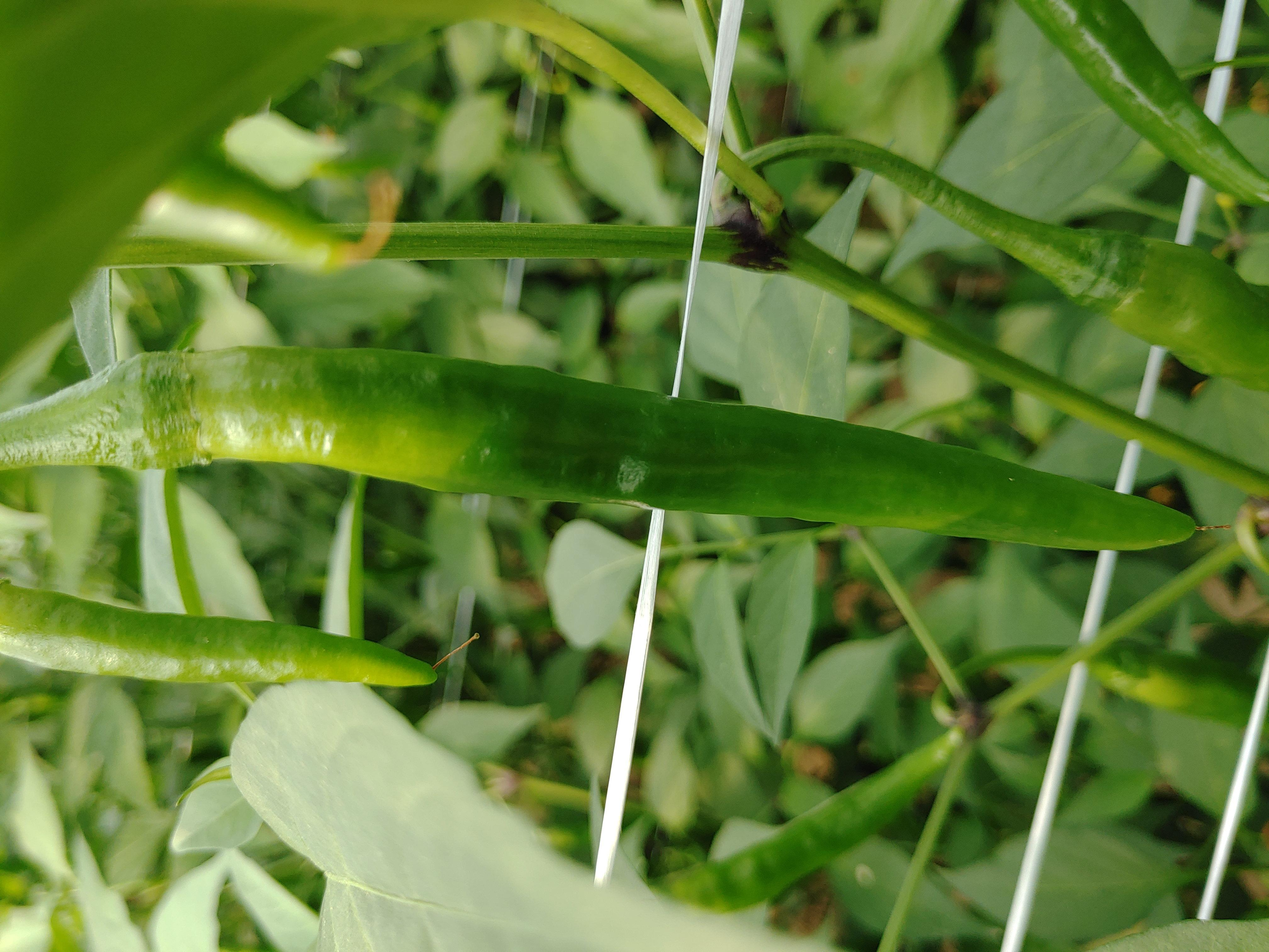Buah Cabai Sehat: (79, 340, 1200, 558)
